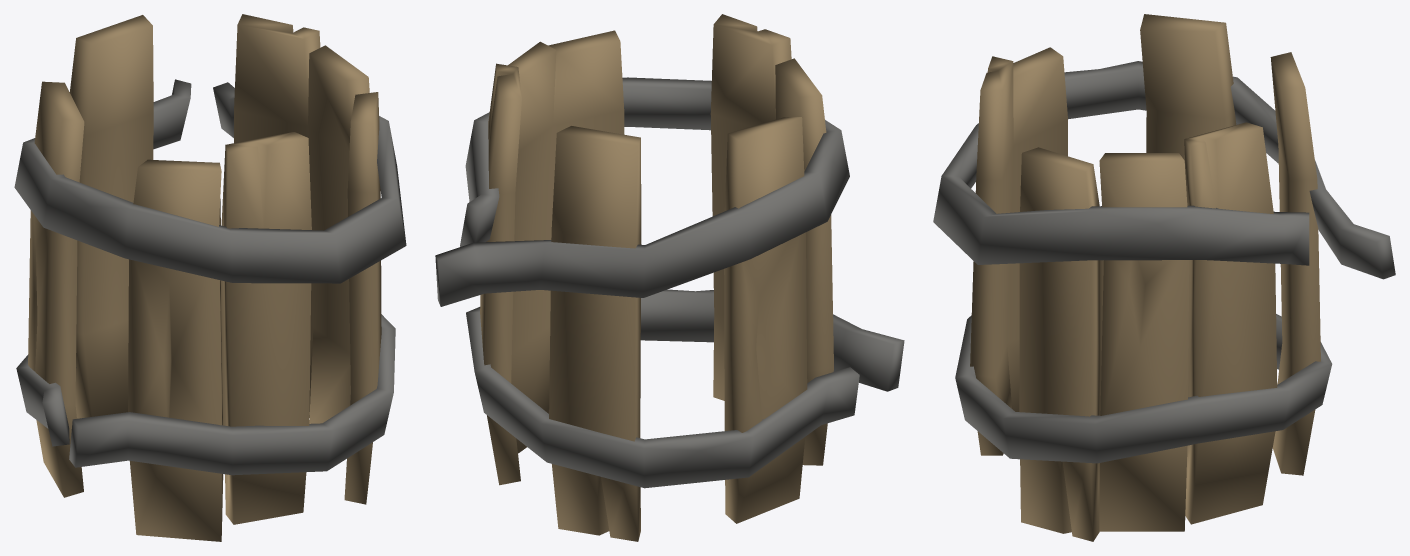
Rendered from rpgpp_av_barrel_03c.gltf.
The picture shows the model from 3 angles, left to right: view 1: azimuth 30°, elevation 25°; view 2: azimuth 150°, elevation 25°; view 3: azimuth 270°, elevation 25°; orthographic projection. The views are drawn at different scales.
Visible parts, largest first — view 1: rpgpp_av_barrel_03c; view 2: rpgpp_av_barrel_03c; view 3: rpgpp_av_barrel_03c.
Part boxes in pixels (<box>): rpgpp_av_barrel_03c: <box>14,14,406,541</box>; rpgpp_av_barrel_03c: <box>435,14,904,541</box>; rpgpp_av_barrel_03c: <box>933,14,1395,541</box>.
Size of the model in its own units: 0.00904 by 0.00993 by 0.0105.
1 material, 1 textured.
